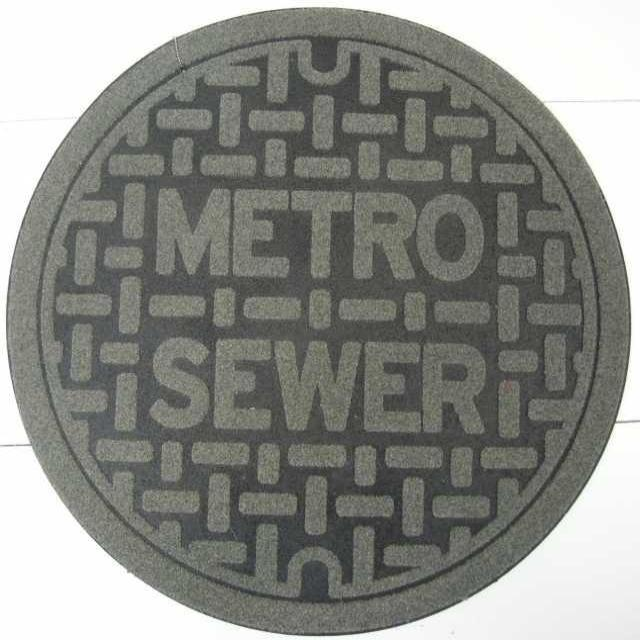manhole: (9, 9, 629, 633)
